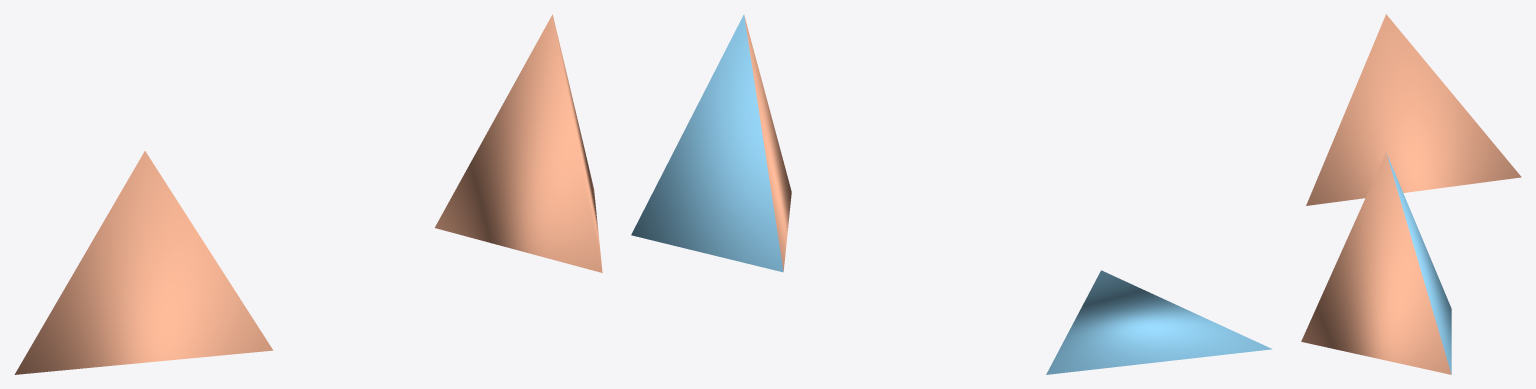
Rendered from tetra.gltf.
The picture shows the model from 3 angles, left to right: view 1: azimuth 30°, elevation 25°; view 2: azimuth 150°, elevation 25°; view 3: azimuth 270°, elevation 25°; orthographic projection. The views are drawn at different scales.
Parts seen in each view (by area): view 1: Left tilted tetra, Right tall tetra; view 2: Right tall tetra, Left tilted tetra; view 3: Left tilted tetra, Right tall tetra.
Boxes of the visible parts, box(x1,y1,x2,y2) form: Left tilted tetra: box(14, 151, 273, 374); Right tall tetra: box(434, 14, 602, 272); Right tall tetra: box(631, 14, 791, 272); Left tilted tetra: box(1046, 270, 1272, 374); Left tilted tetra: box(1306, 14, 1521, 205); Right tall tetra: box(1301, 152, 1451, 374).
Bounding box in the file's own units: 3.53 × 1.2 × 1.27.
